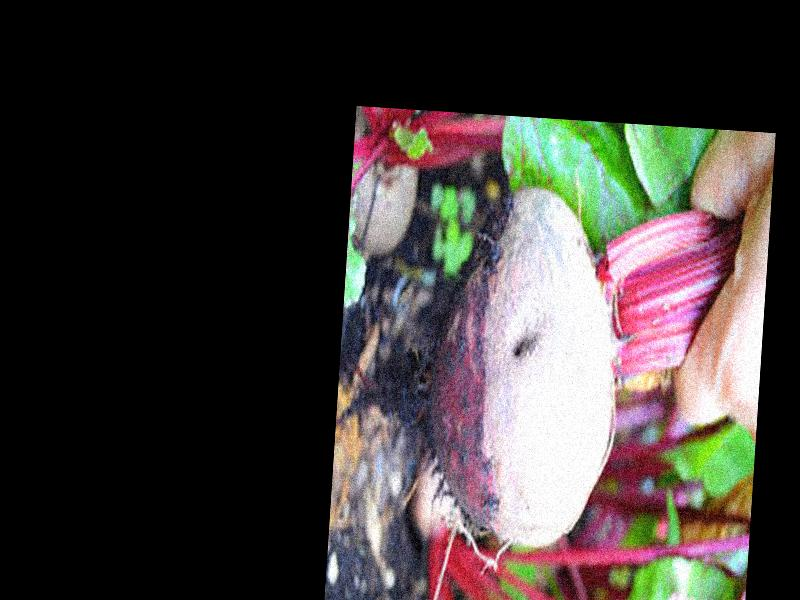Beet: (328, 176, 743, 562)
